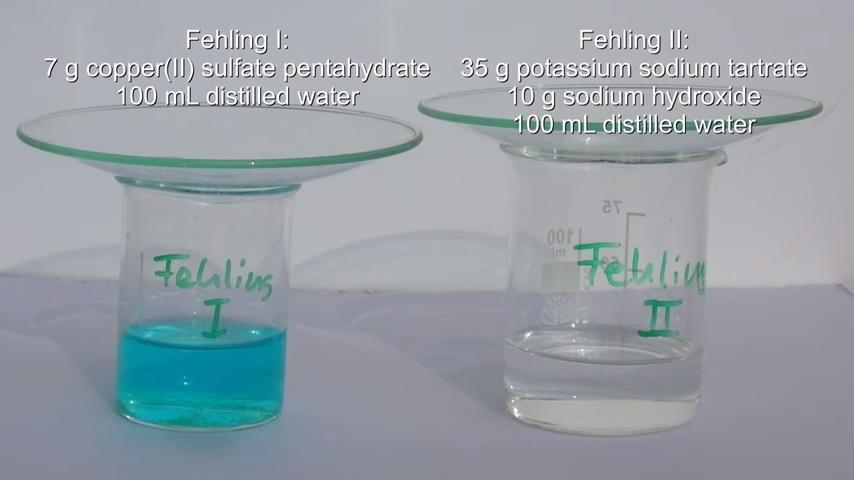Beaker: (477, 128, 716, 442), (96, 158, 291, 436)
